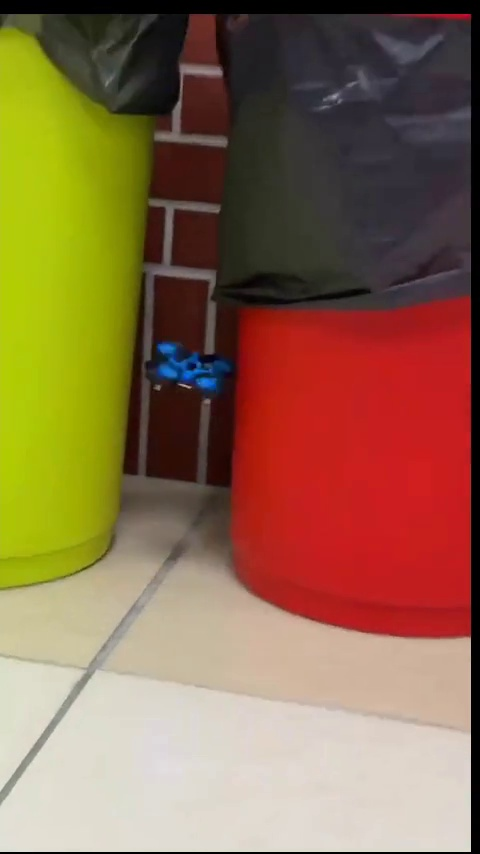drone: (141, 341, 236, 406)
